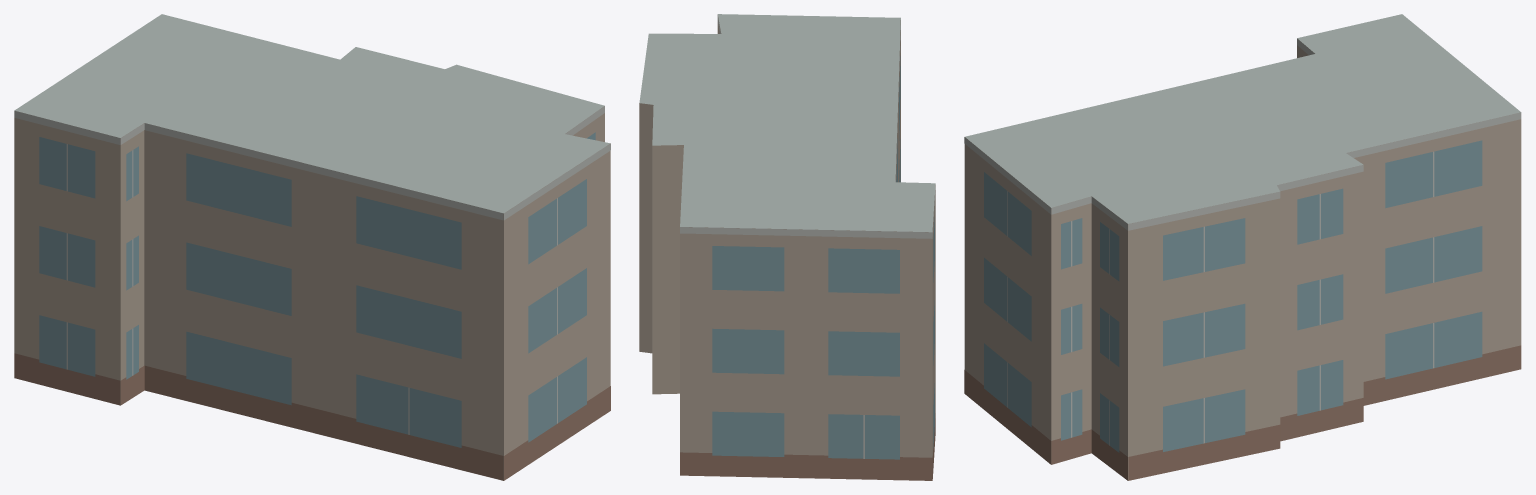
The model's file is survey-upis-32758120.glb.
The picture shows the model from 3 angles, left to right: view 1: azimuth 30°, elevation 25°; view 2: azimuth 150°, elevation 25°; view 3: azimuth 270°, elevation 25°; orthographic projection. The views are drawn at different scales.
Visible parts, largest first — view 1: survey-upis-32758120.tmp; view 2: survey-upis-32758120.tmp; view 3: survey-upis-32758120.tmp.
Boxes of the visible parts, <box> form: survey-upis-32758120.tmp: <box>14,14,610,480</box>; survey-upis-32758120.tmp: <box>639,14,935,480</box>; survey-upis-32758120.tmp: <box>964,14,1521,480</box>.
Bounding box in the file's own units: 16.05 × 9.15 × 17.98.
